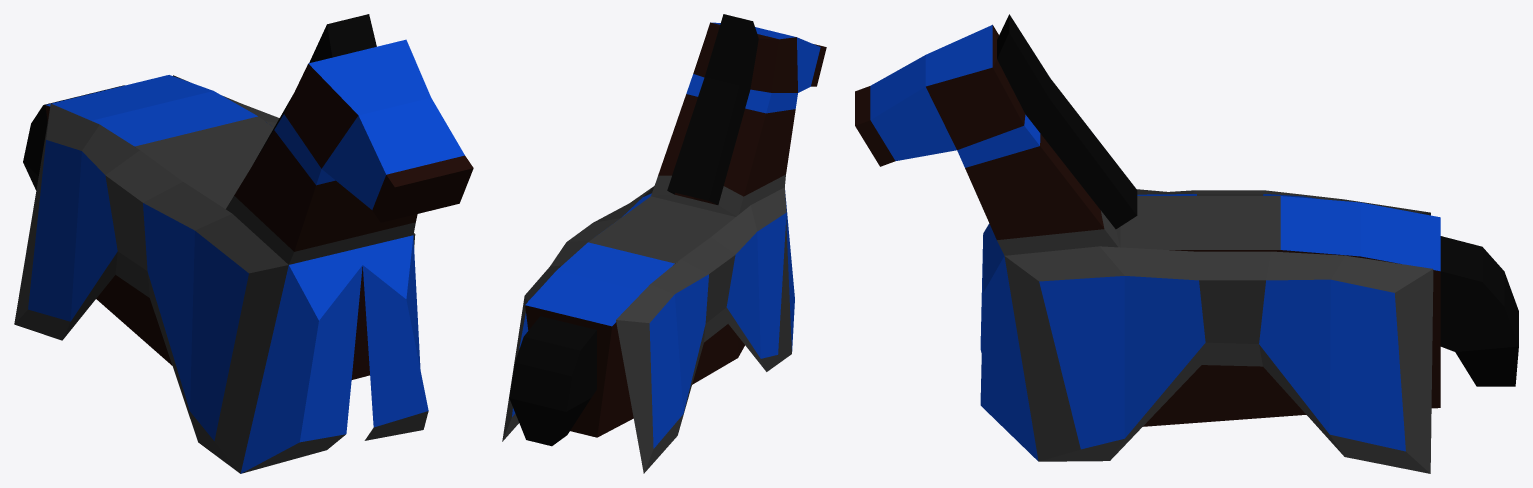
File: horse_armored.obj
The picture shows the model from 3 angles, left to right: view 1: azimuth 30°, elevation 25°; view 2: azimuth 150°, elevation 25°; view 3: azimuth 270°, elevation 25°; orthographic projection. The views are drawn at different scales.
Parts seen in each view (by area): view 1: horse_armored; view 2: horse_armored; view 3: horse_armored.
Part boxes in pixels (bbox=[...]): horse_armored: bbox=[14, 14, 473, 473]; horse_armored: bbox=[502, 14, 826, 473]; horse_armored: bbox=[855, 14, 1518, 473].
Bounding box in the file's own units: 0.2156 × 0.4658 × 0.6884.
